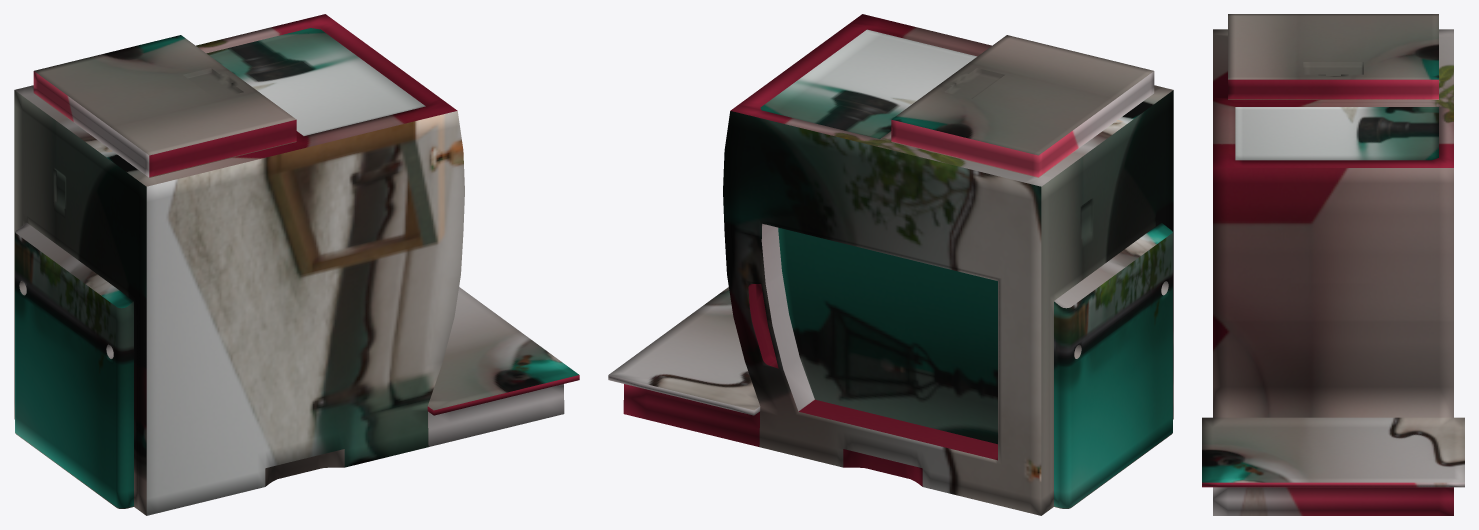
The model's file is Coffe Maker Body.fbx.
3 views of the same model, side by side, from view 1: azimuth 30°, elevation 25°; view 2: azimuth 150°, elevation 25°; view 3: azimuth 270°, elevation 25° (orthographic). The views are drawn at different scales.
Parts seen in each view (by area): view 1: Coffee Body; view 2: Coffee Body; view 3: Coffee Body.
Boxes of the visible parts, box(x1,y1,x2,y2) form: Coffee Body: box(14, 14, 579, 515); Coffee Body: box(608, 14, 1173, 515); Coffee Body: box(1202, 14, 1464, 515).
Bounding box in the file's own units: 34.38 × 26.17 × 19.43.
